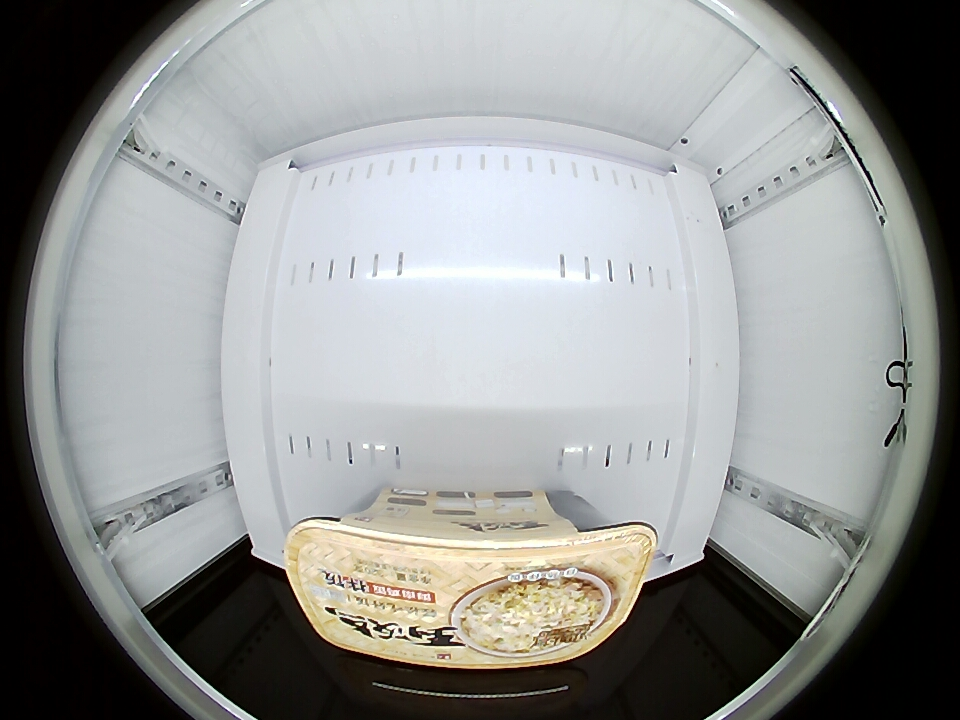daofandian1: (283, 492, 653, 668)
